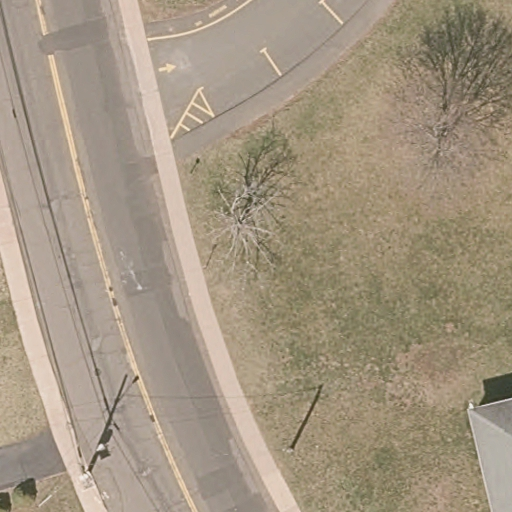DT: (69, 442, 109, 499)
